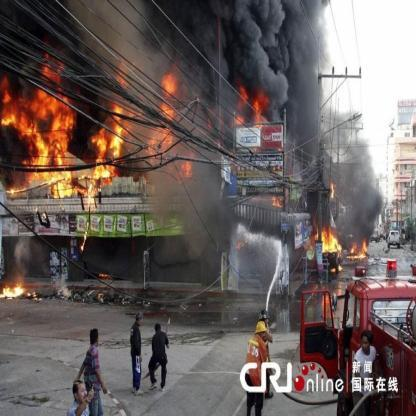Fire: (0, 39, 139, 202), (150, 64, 176, 186), (225, 77, 277, 125), (315, 220, 343, 257), (356, 238, 377, 266)
